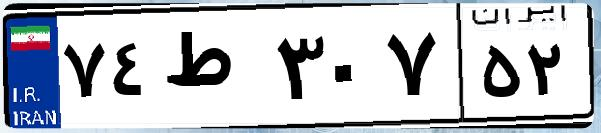0: (330, 28, 385, 110)
2: (525, 38, 570, 115)
3: (270, 28, 330, 110)
4: (110, 28, 158, 98)
5: (475, 38, 525, 113)
7: (385, 28, 445, 110), (57, 26, 110, 100)
ط: (158, 20, 270, 120)
